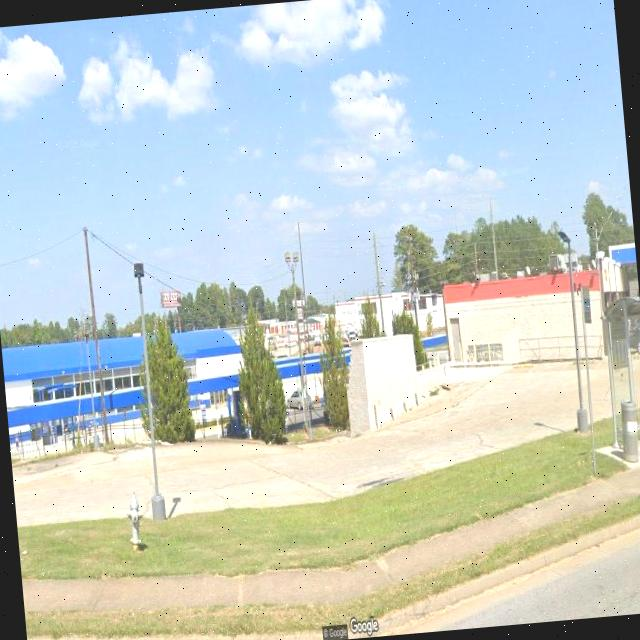shelter: (571, 258, 640, 467)
trash_can: (620, 400, 640, 464)
